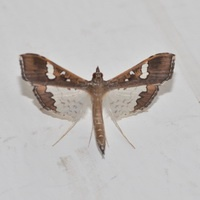insect: (19, 53, 174, 156)
